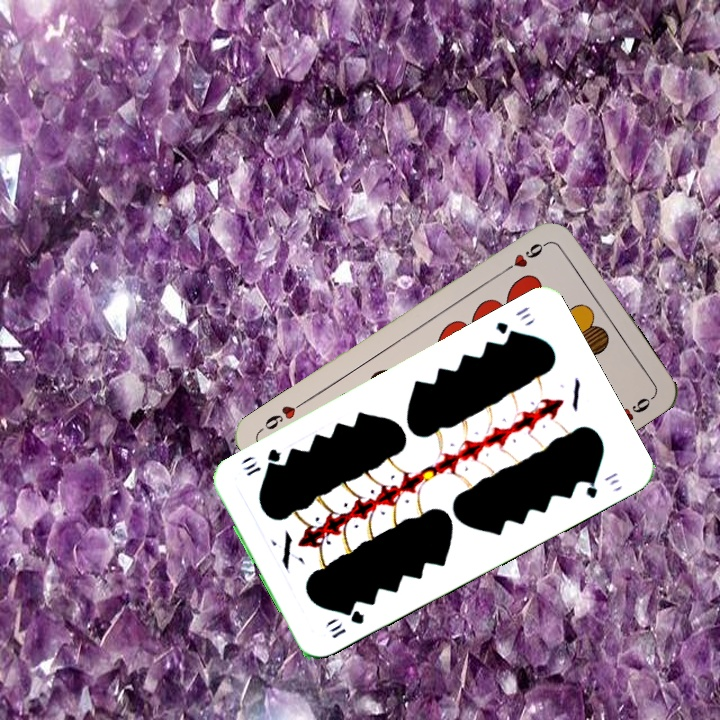G10: (491, 302, 534, 342), (324, 606, 367, 641)
H9: (499, 237, 551, 276)
